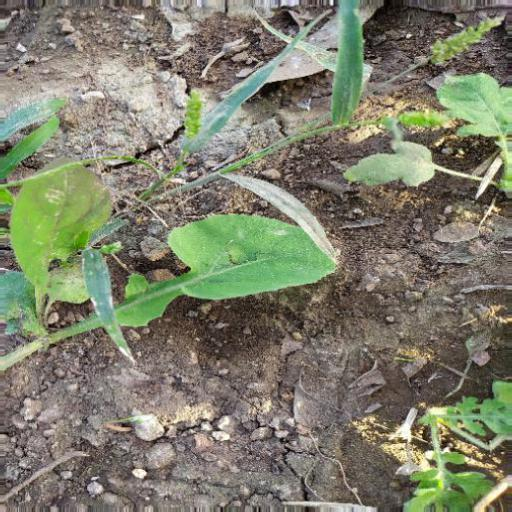weed: (1, 166, 345, 335), (347, 57, 512, 209), (394, 382, 512, 508)
